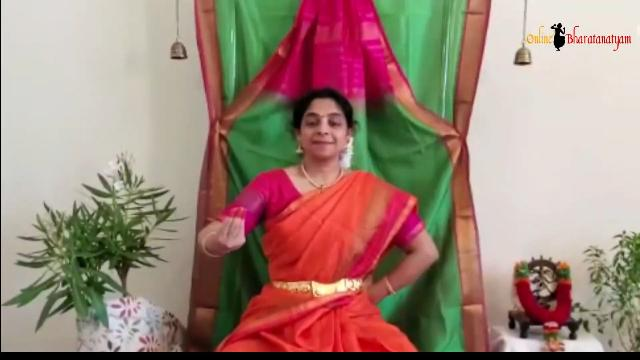mukul: (191, 194, 261, 268)
